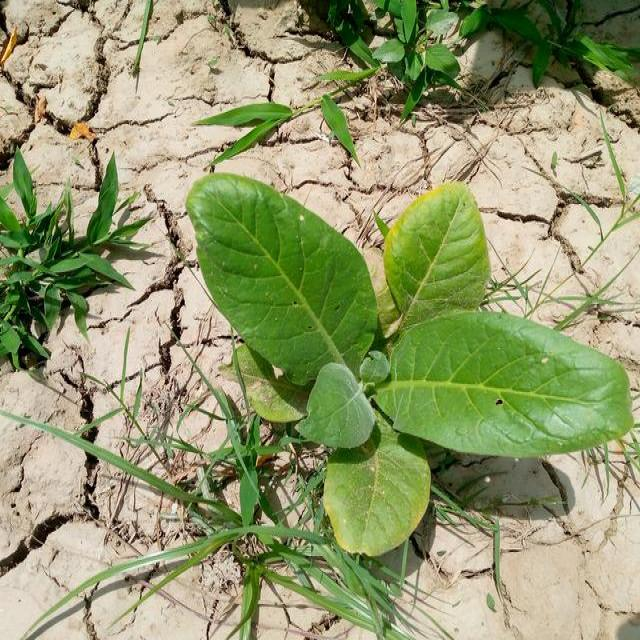crop: (179, 150, 636, 561)
